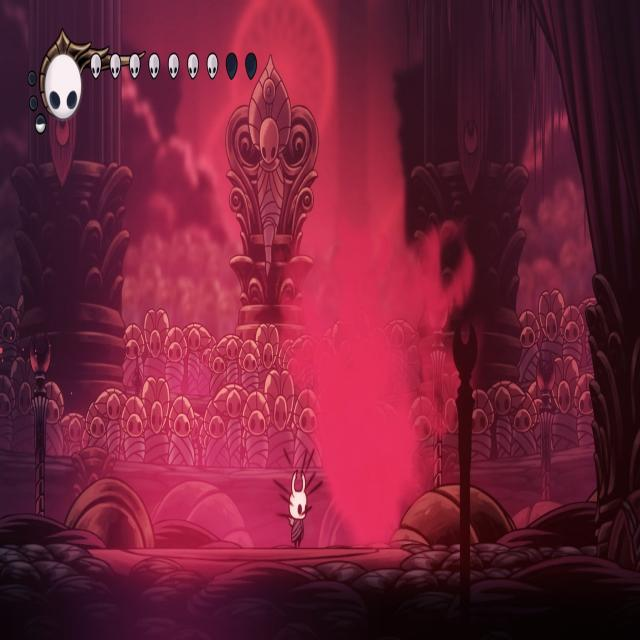Player: (282, 454, 310, 547)
